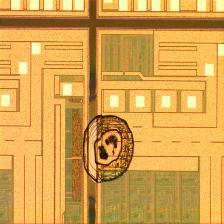PARTICLE: (69, 112, 145, 188)
